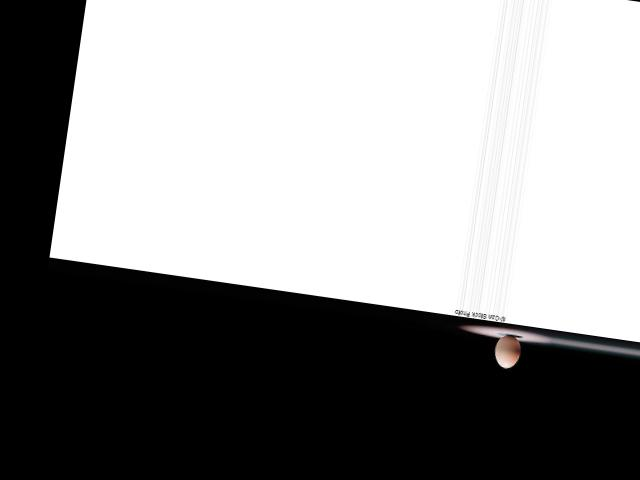egg: (492, 333, 522, 369)
